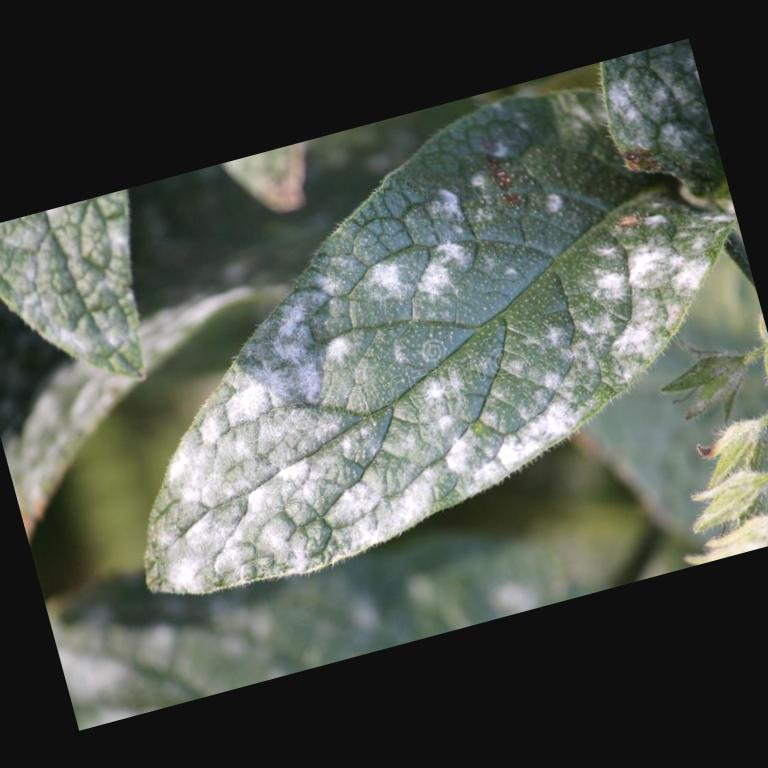powdery-mildew: (194, 417, 415, 578)
